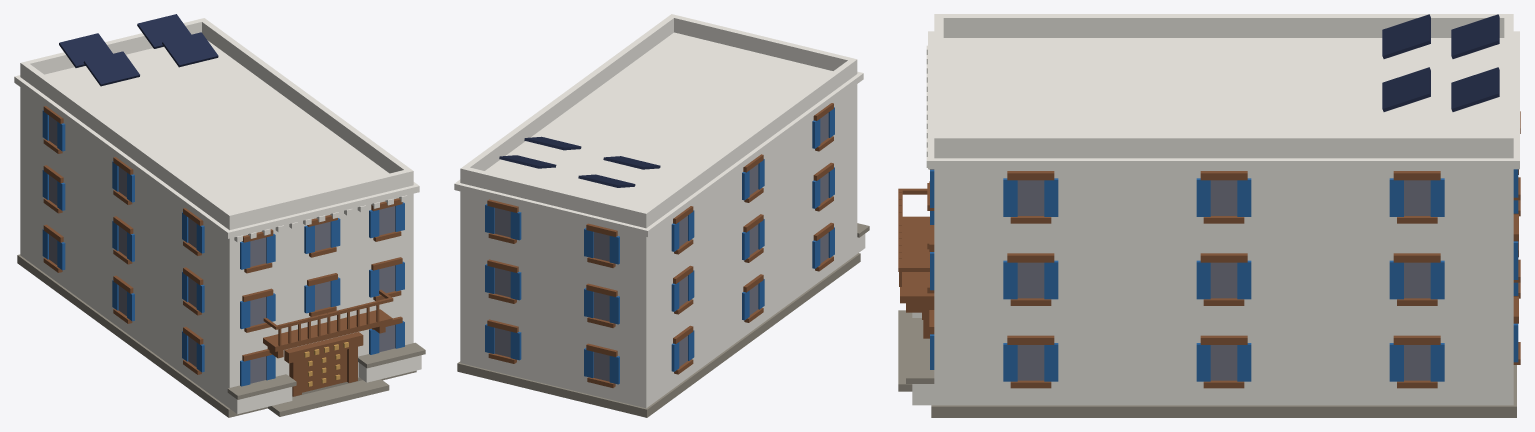
File: house-1x2-3f-swahili-a-solar.glb
The picture shows the model from 3 angles, left to right: view 1: azimuth 30°, elevation 25°; view 2: azimuth 150°, elevation 25°; view 3: azimuth 270°, elevation 25°; orthographic projection. The views are drawn at different scales.
Parts seen in each view (by area): view 1: house-1x2-3f-swahili-a-solar; view 2: house-1x2-3f-swahili-a-solar; view 3: house-1x2-3f-swahili-a-solar.
Boxes of the visible parts, left/top/right/bottom form: house-1x2-3f-swahili-a-solar: left=14, top=14, right=425, bottom=417; house-1x2-3f-swahili-a-solar: left=454, top=14, right=869, bottom=417; house-1x2-3f-swahili-a-solar: left=898, top=14, right=1520, bottom=417.
Size of the model in its own units: 0.984 by 1.06 by 1.99.
1 material, 1 textured.
